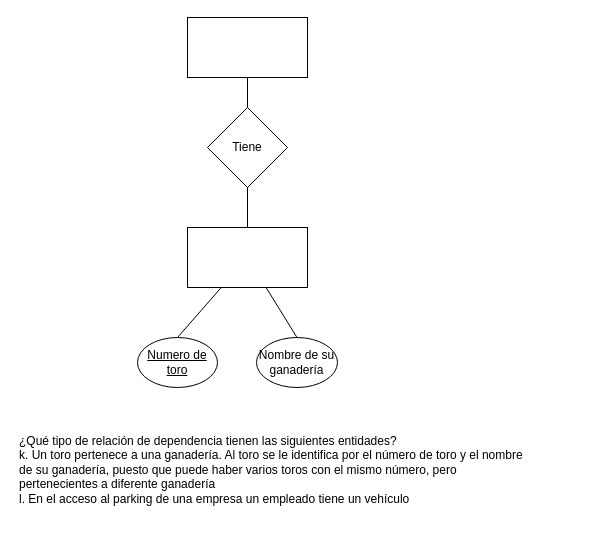
The diagram is 594 pixels wide and 545 high, and some of its shapes have lost their labels. The shapes that lost their labels are listed below. From the top down, each one's centre as x and y in pixels, then its label:
(x=247, y=47): Ganaderia
(x=247, y=257): Toros
